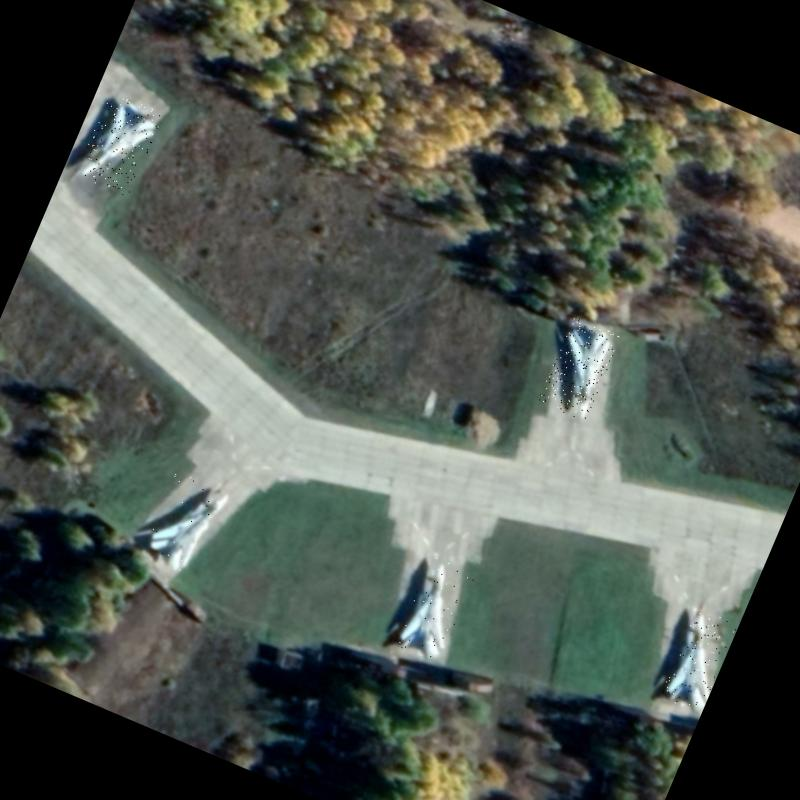A20: (139, 468, 233, 580), (75, 92, 164, 198), (393, 556, 476, 664), (538, 316, 622, 422), (659, 608, 738, 714)
